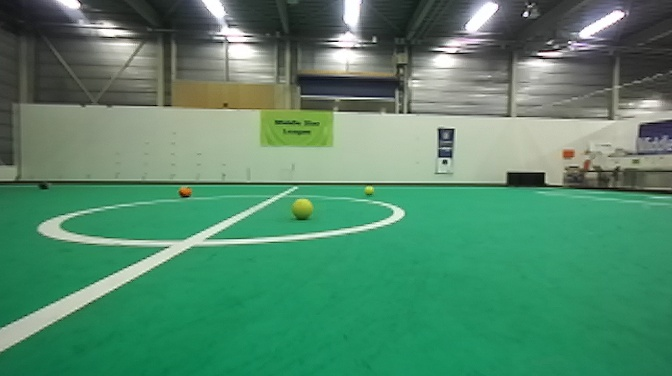ball: (290, 196, 313, 221), (177, 185, 193, 199), (34, 178, 51, 191), (364, 184, 376, 197)
